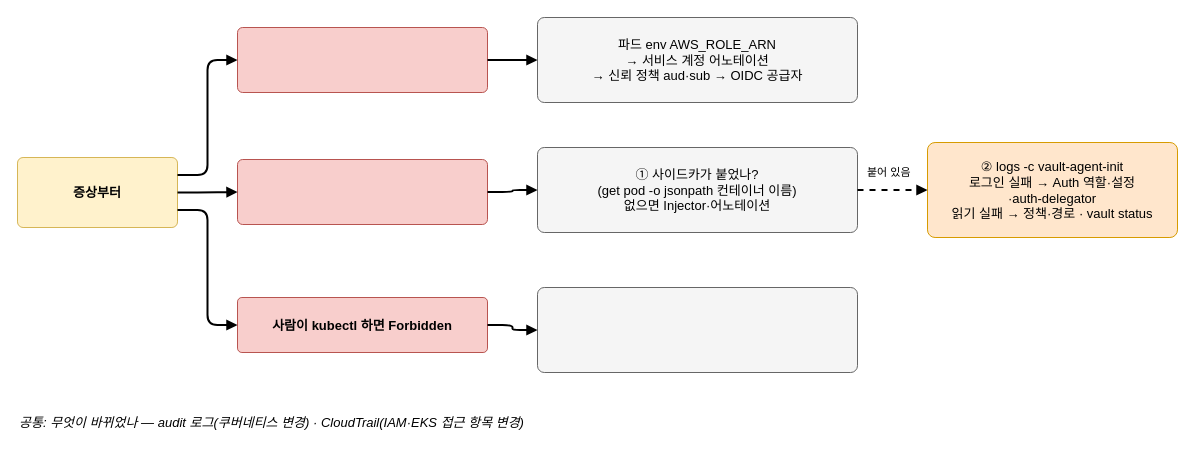
This 1195x455 diagram has some shape labels left out. Each missing label, with the centre of its shape:
"kubectl auth can-i … --as-group → Role 동사 → RoleBinding 대상 → 접근 항목의 그룹" belongs at (x=697, y=329).
"새 파드가 Init 에서 멈춤 또는 CrashLoopBackOff" belongs at (x=362, y=191).
"앱이 AWS API 실패 (/aws 500, AccessDenied)" belongs at (x=362, y=59).
